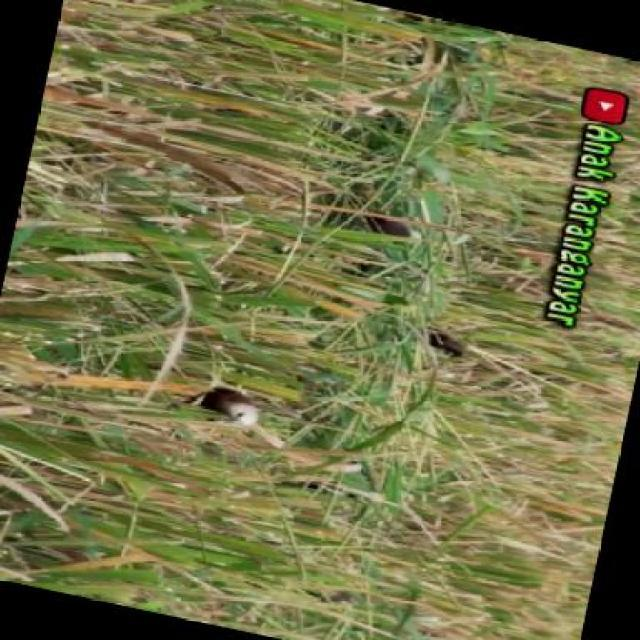Bird: (164, 368, 278, 478)
